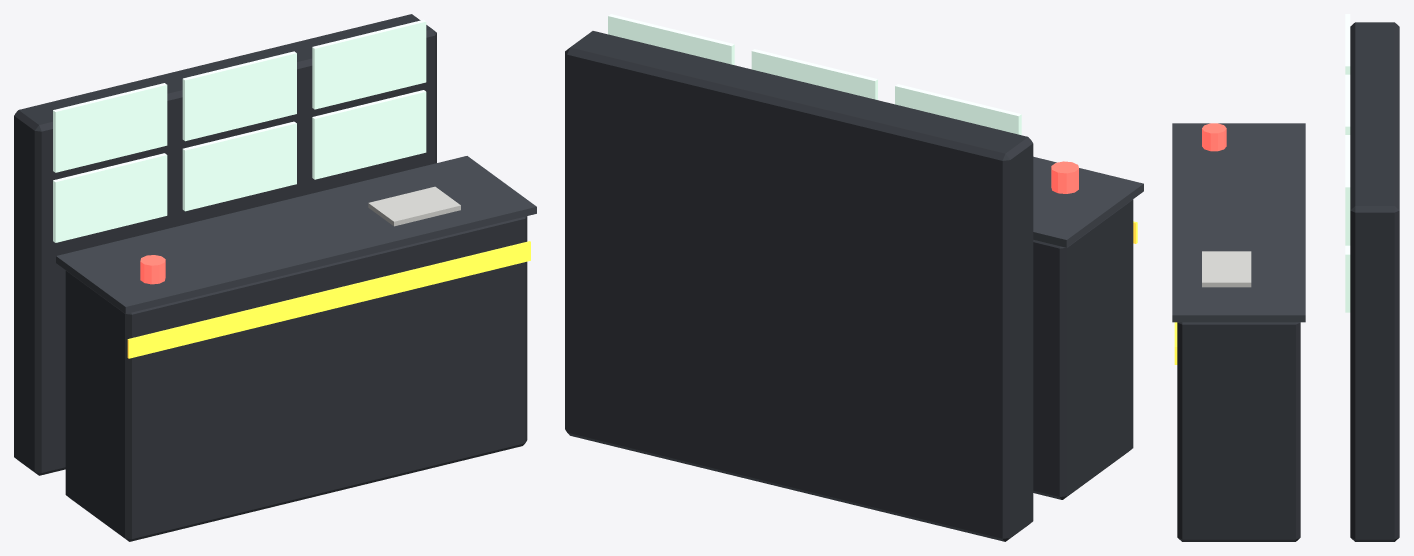
File: security_post.glb
3 views of the same model, side by side, from view 1: azimuth 30°, elevation 25°; view 2: azimuth 150°, elevation 25°; view 3: azimuth 270°, elevation 25° (orthographic). The views are drawn at different scales.
Visible parts, largest first — view 1: security_post_mesh; view 2: security_post_mesh; view 3: security_post_mesh.
Part boxes in pixels (bbox=[...]): security_post_mesh: bbox=[14, 14, 536, 541]; security_post_mesh: bbox=[565, 14, 1143, 541]; security_post_mesh: bbox=[1172, 14, 1399, 541].
Bounding box in the file's own units: 1.84 × 1.56 × 0.92.
